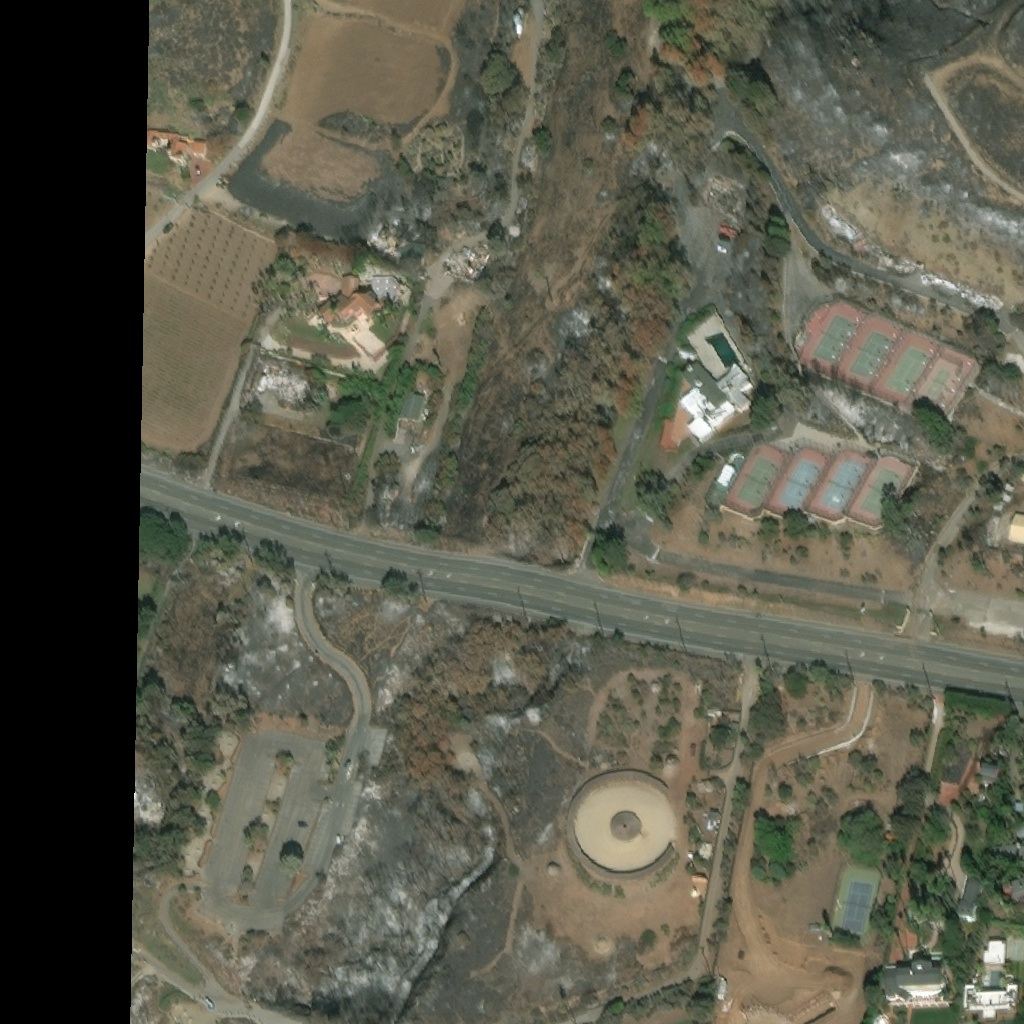0 no-damage: (567, 770, 681, 888), (304, 275, 391, 365), (937, 706, 1005, 809), (441, 238, 496, 288), (679, 388, 732, 439), (701, 709, 740, 772), (884, 964, 944, 1004), (147, 130, 207, 168), (679, 359, 725, 406), (971, 941, 1006, 991), (966, 990, 1019, 1023), (715, 358, 751, 406), (372, 274, 413, 306), (957, 875, 983, 921), (399, 390, 424, 424), (1005, 879, 1023, 913), (974, 764, 996, 790), (988, 847, 1023, 863), (1007, 514, 1023, 548), (718, 467, 737, 490), (691, 780, 722, 793), (816, 1007, 841, 1023), (706, 810, 720, 835), (697, 844, 714, 863), (688, 874, 708, 885), (424, 276, 434, 293), (514, 20, 524, 37), (593, 749, 606, 762), (665, 755, 679, 766), (1009, 827, 1023, 838), (435, 170, 446, 181), (548, 866, 558, 876), (886, 834, 896, 844), (810, 926, 822, 933), (1004, 483, 1013, 490)
3 destroyed: (858, 232, 912, 267), (820, 196, 858, 234), (134, 789, 168, 829), (960, 280, 1002, 312), (913, 260, 957, 290), (700, 173, 733, 209), (263, 366, 290, 399), (284, 377, 310, 405), (255, 363, 271, 392), (523, 142, 536, 166), (795, 327, 810, 343), (133, 843, 141, 862)
4 un-classified: (656, 0, 684, 33)
